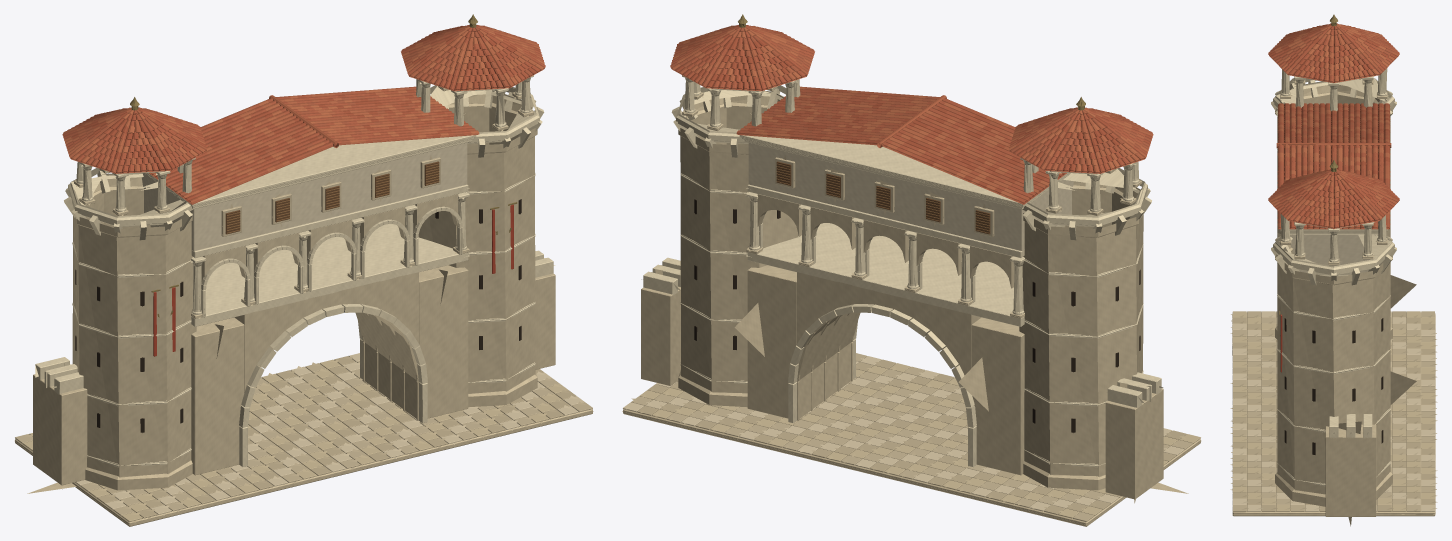
File: stadttor.glb
3 views of the same model, side by side, from view 1: azimuth 30°, elevation 25°; view 2: azimuth 150°, elevation 25°; view 3: azimuth 270°, elevation 25° (orthographic). The views are drawn at different scales.
Parts seen in each view (by area): view 1: Travertine.001, Travertine.002, Limestone_trim.001, Tile_0.001, Limewash.001, Paving_2.001, Paving_3.001, Paving_0.001, Paving_1.001, Limestone_trim.002, Tile_2.001, Tile_3.001 (+12 smaller); view 2: Travertine.001, Travertine.002, Limestone_trim.001, Tile_0.001, Limewash.001, Paving_0.001, Paving_1.001, Paving_3.001, Paving_2.001, Limestone_trim.002, Tile_2.001, Tile_3.001 (+12 smaller); view 3: Travertine.002, Travertine.001, Tile_0.001, Limestone_trim.001, Paving_2.001, Paving_3.001, Paving_1.001, Paving_0.001, Tile_3.001, Tile_5.001, Tile_2.001, Tile_1.001 (+13 smaller).
Part boxes in pixels (box(x1,y1,x2,y2)): Travertine.001: box(15, 86, 592, 526); Travertine.002: box(14, 86, 592, 524); Limestone_trim.001: box(35, 75, 553, 467); Tile_0.001: box(62, 25, 545, 197); Limewash.001: box(141, 142, 467, 250); Paving_2.001: box(75, 353, 584, 514); Paving_3.001: box(15, 361, 592, 515); Paving_0.001: box(23, 359, 568, 521); Paving_1.001: box(31, 356, 576, 518); Limestone_trim.002: box(59, 75, 541, 465); Tile_2.001: box(71, 25, 543, 204); Tile_3.001: box(64, 25, 544, 200); Travertine.001: box(623, 86, 1200, 526); Travertine.002: box(622, 86, 1201, 524); Limestone_trim.001: box(643, 75, 1161, 467); Tile_0.001: box(671, 25, 1148, 203); Limewash.001: box(748, 142, 1073, 250); Paving_0.001: box(639, 363, 1200, 518); Paving_1.001: box(637, 359, 1186, 514); Paving_3.001: box(631, 353, 1192, 521); Paving_2.001: box(623, 356, 1184, 511); Limestone_trim.002: box(672, 75, 1156, 466); Tile_2.001: box(670, 26, 1152, 204); Tile_3.001: box(671, 25, 1148, 197); Travertine.002: box(1232, 80, 1435, 514); Travertine.001: box(1232, 80, 1435, 516); Tile_0.001: box(1268, 24, 1399, 228); Limestone_trim.001: box(1271, 70, 1396, 486); Paving_2.001: box(1233, 311, 1434, 511); Paving_3.001: box(1233, 311, 1434, 511); Paving_1.001: box(1233, 311, 1434, 511); Paving_0.001: box(1233, 311, 1434, 511); Tile_3.001: box(1270, 23, 1389, 228); Tile_5.001: box(1268, 25, 1395, 228); Tile_2.001: box(1268, 26, 1399, 229); Tile_1.001: box(1276, 23, 1399, 228).
Bounding box in the file's own units: 31.93 × 22.72 × 12.28.
18 materials, 7 textured.
